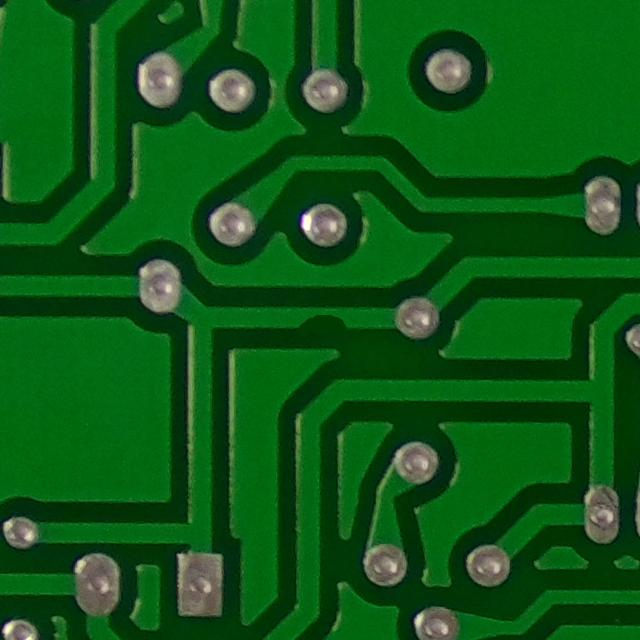mouse_bite: (280, 296, 360, 345)
